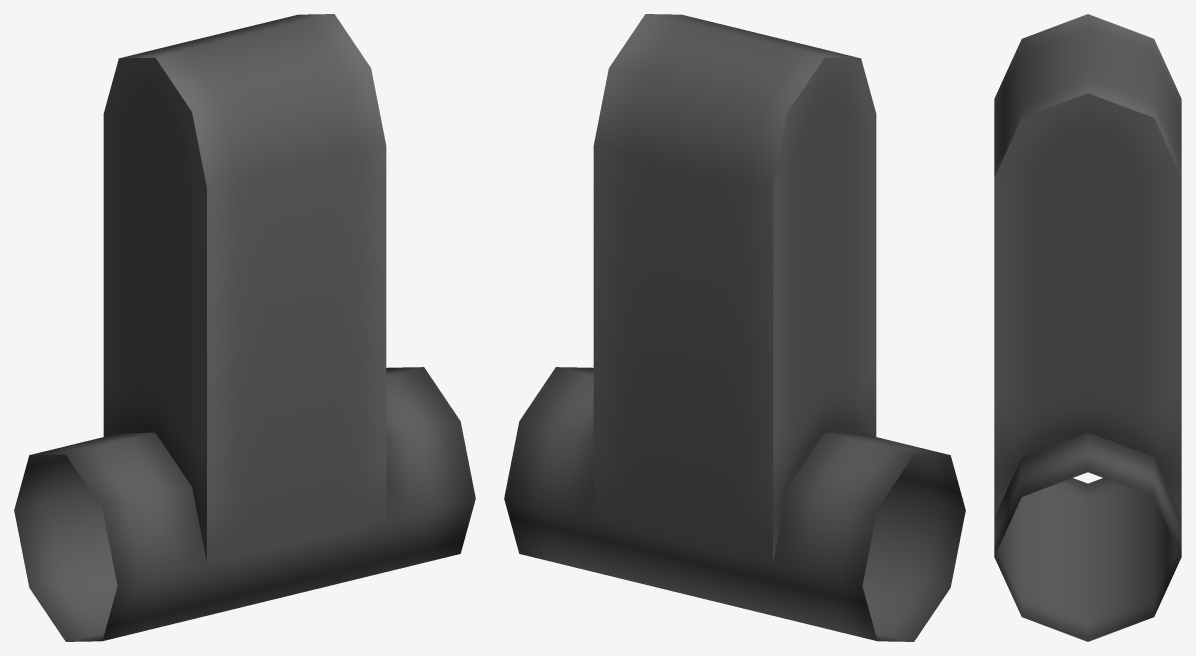
File: Ara_Antenna_1_Stem.obj
The picture shows the model from 3 angles, left to right: view 1: azimuth 30°, elevation 25°; view 2: azimuth 150°, elevation 25°; view 3: azimuth 270°, elevation 25°; orthographic projection. The views are drawn at different scales.
Parts seen in each view (by area): view 1: Ara_Antenna_1_Stem; view 2: Ara_Antenna_1_Stem; view 3: Ara_Antenna_1_Stem.
Part boxes in pixels (x1,y1,x2,y2): Ara_Antenna_1_Stem: (14, 14, 475, 641); Ara_Antenna_1_Stem: (504, 14, 965, 641); Ara_Antenna_1_Stem: (994, 14, 1181, 641).
Size of the model in its own units: 0.125 by 0.1875 by 0.0625.
